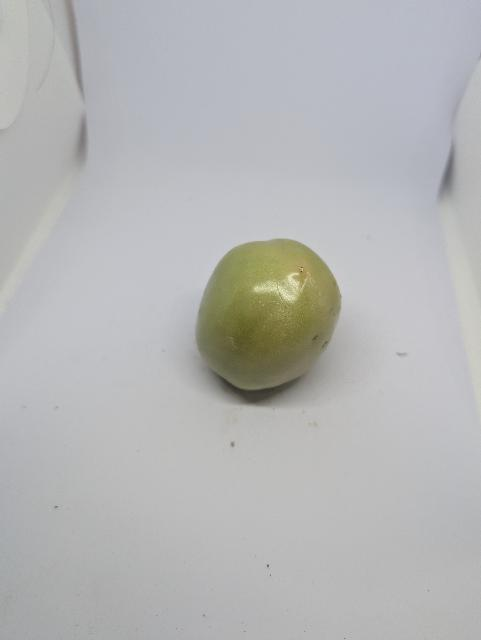green: (196, 236, 345, 393)
